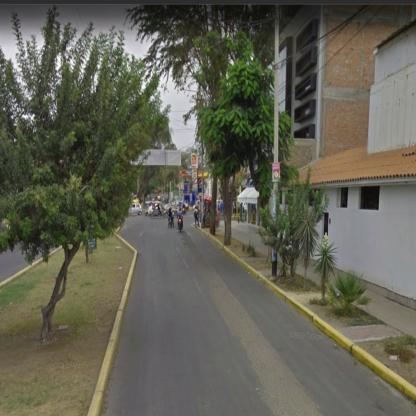Moto: (178, 209, 184, 233)
Peaton: (194, 208, 201, 229)
Pista: (103, 235, 416, 415)
Vehiculo: (151, 202, 167, 220)
